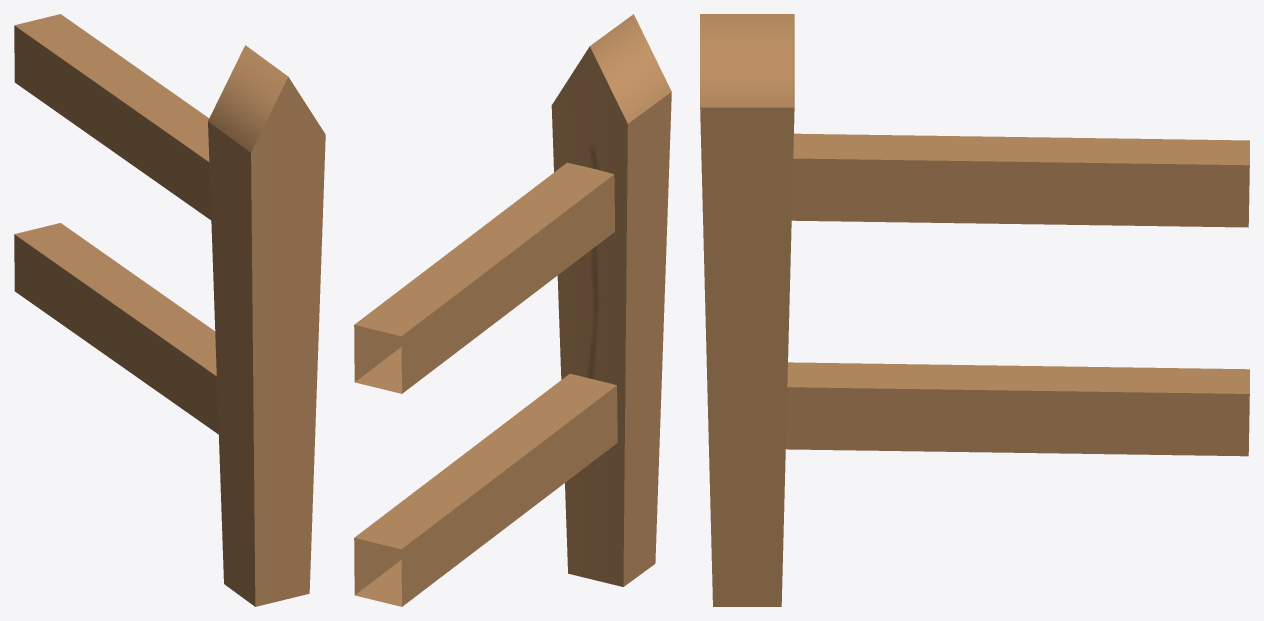
The model's file is FBX_VallaTile01.fbx.
3 views of the same model, side by side, from view 1: azimuth 30°, elevation 25°; view 2: azimuth 150°, elevation 25°; view 3: azimuth 270°, elevation 25° (orthographic). The views are drawn at different scales.
Visible parts, largest first — view 1: pCube48; view 2: pCube48; view 3: pCube48.
Boxes of the visible parts, x1,y1,x2,y2 form: pCube48: [14, 14, 325, 606]; pCube48: [354, 14, 671, 606]; pCube48: [700, 14, 1249, 606].
Size of the model in its own units: 7.15 by 48.3 by 41.6.
